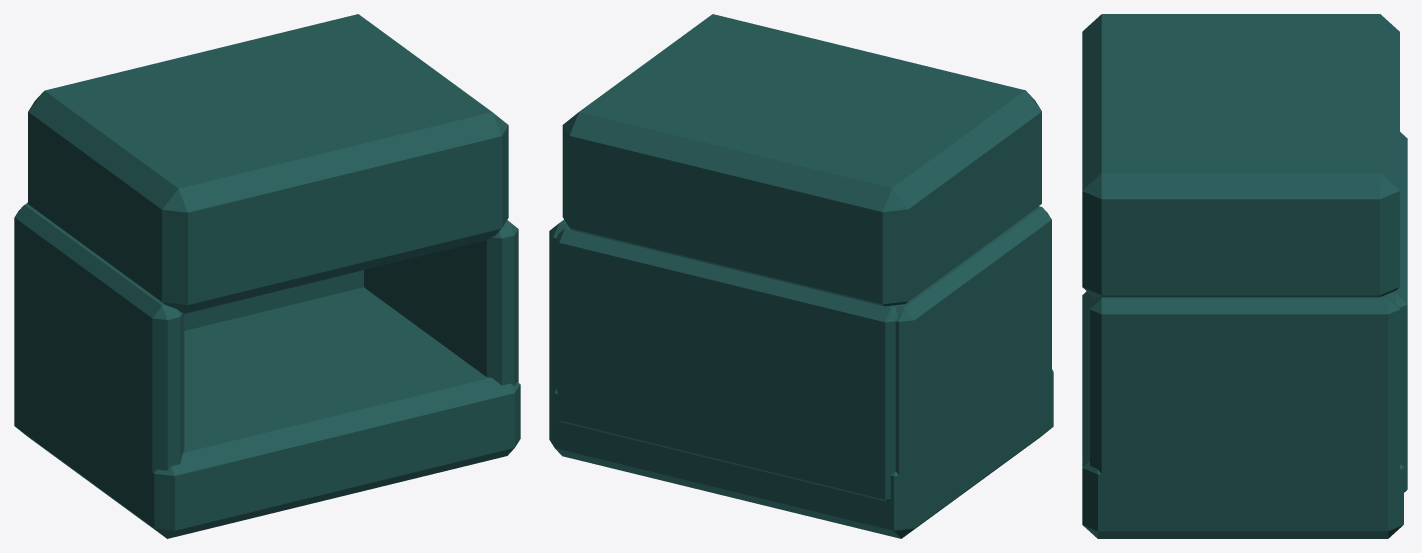
Rendered from headwear-hijab.high.8b6b7a33.glb.
3 renders of one model, left to right at view 1: azimuth 30°, elevation 25°; view 2: azimuth 150°, elevation 25°; view 3: azimuth 270°, elevation 25°, orthographic. The views are drawn at different scales.
Visible parts, largest first — view 1: headwear-hijab; view 2: headwear-hijab; view 3: headwear-hijab.
Part boxes in pixels (<box>): headwear-hijab: <box>14,14,520,538</box>; headwear-hijab: <box>549,14,1053,538</box>; headwear-hijab: <box>1082,14,1407,538</box>.
Bounding box in the file's own units: 1.12 × 1.01 × 0.83.
